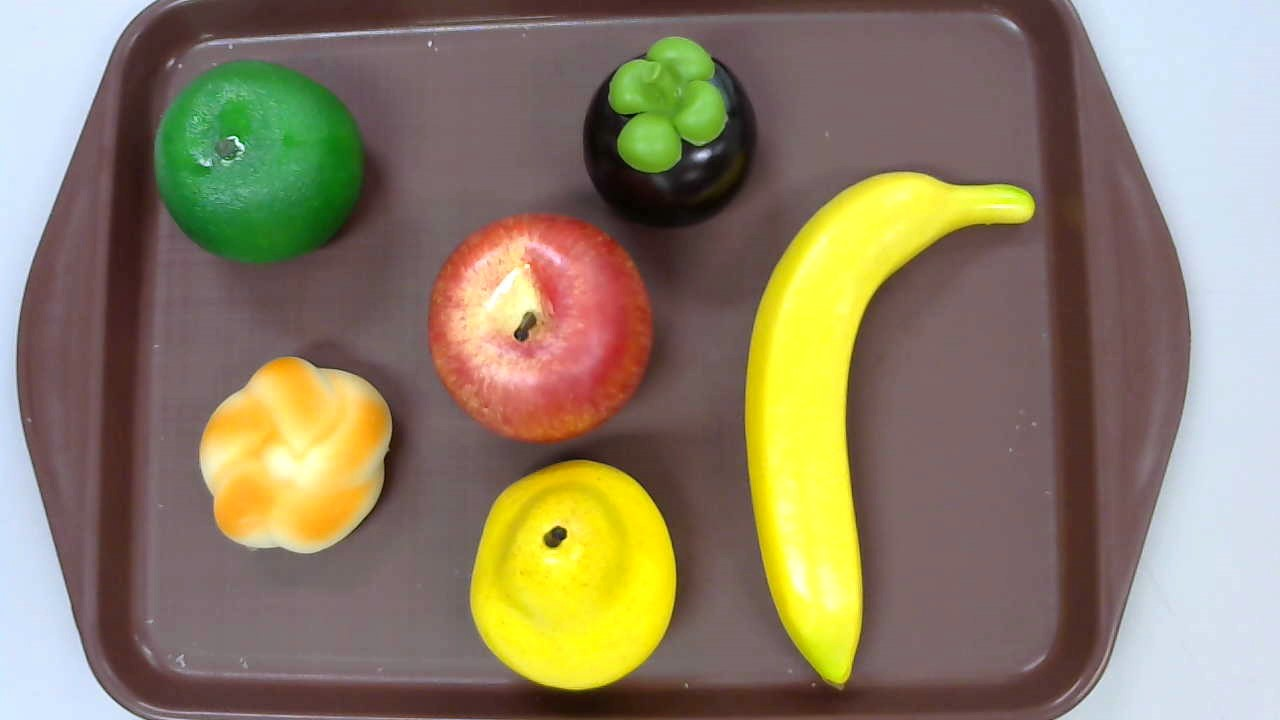banana: (744, 171, 1035, 692)
green orange: (154, 59, 365, 263)
mangosteen: (583, 34, 758, 228)
red apple: (427, 212, 653, 446)
twist bread: (197, 357, 391, 553)
yellow pear: (469, 459, 678, 693)
